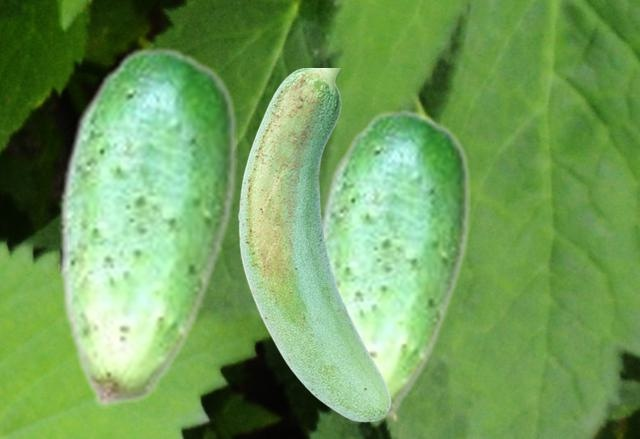cucumber: (58, 45, 236, 407), (238, 68, 390, 421), (321, 108, 469, 422)
